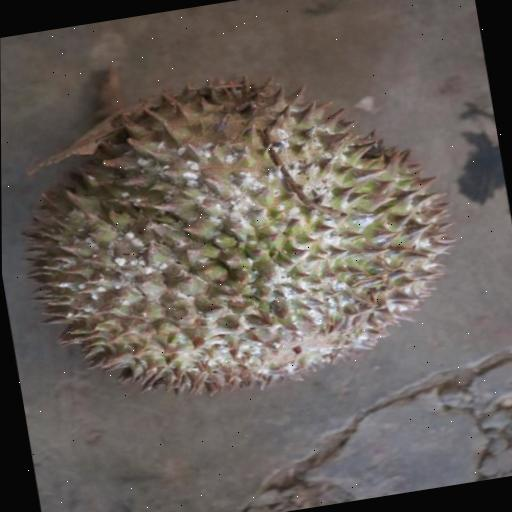mold: (0, 24, 512, 437)
